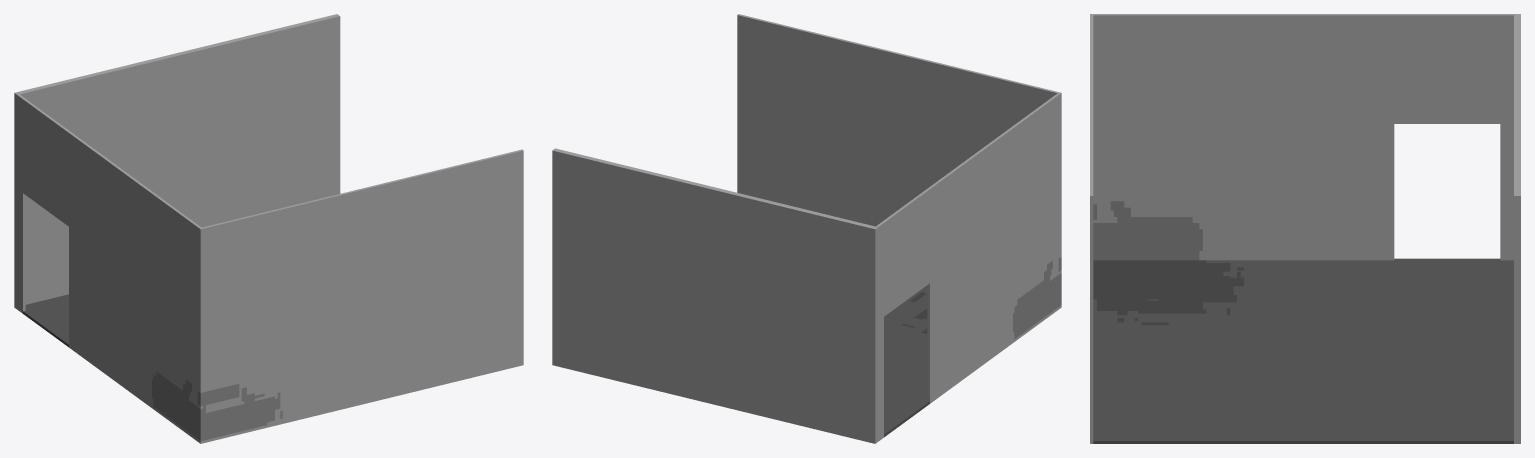
The model's file is 4x2 second (1)-2.obj.
3 views of the same model, side by side, from view 1: azimuth 30°, elevation 25°; view 2: azimuth 150°, elevation 25°; view 3: azimuth 270°, elevation 25° (orthographic). The views are drawn at different scales.
Parts seen in each view (by area): view 1: 4x2 second (1)-2; view 2: 4x2 second (1)-2; view 3: 4x2 second (1)-2.
Part boxes in pixels (x1=…): 4x2 second (1)-2: x1=14, y1=14, x2=523, y2=443; 4x2 second (1)-2: x1=552, y1=14, x2=1061, y2=443; 4x2 second (1)-2: x1=1090, y1=14, x2=1520, y2=443.
Size of the model in its own units: 126 by 80 by 126.
Materials: 1 (1 with a texture image).
